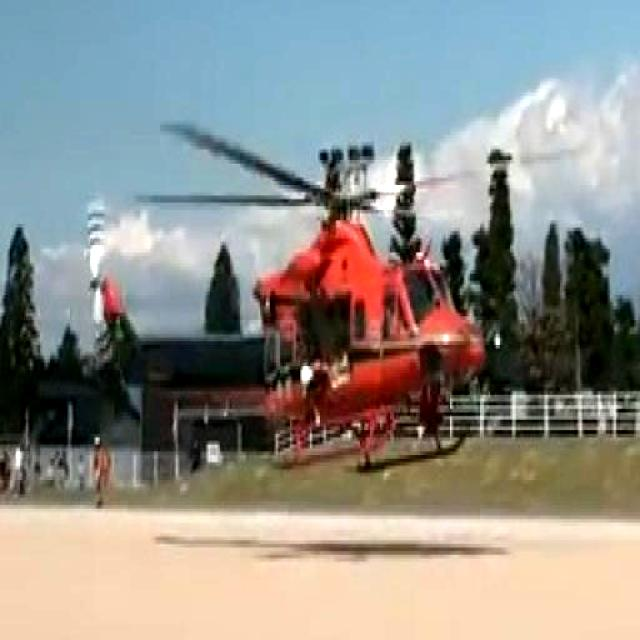drone: (81, 78, 496, 466)
